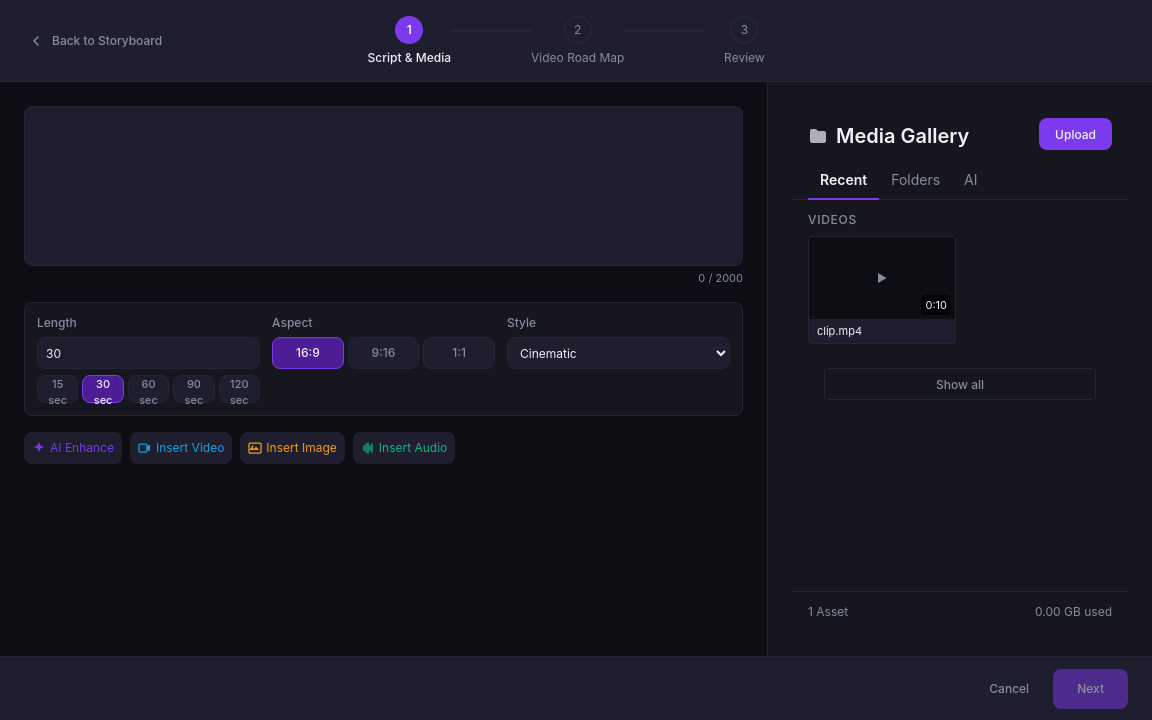
GenerateWizardPage — asset detail panel › close button returns to the gallery
What coordinates should you click on to do the following:
click the button "▶ 0:10 clip.mp4"
I would click on:
 (882, 290)
Its box is top-left (808, 236), bottom-right (956, 344).
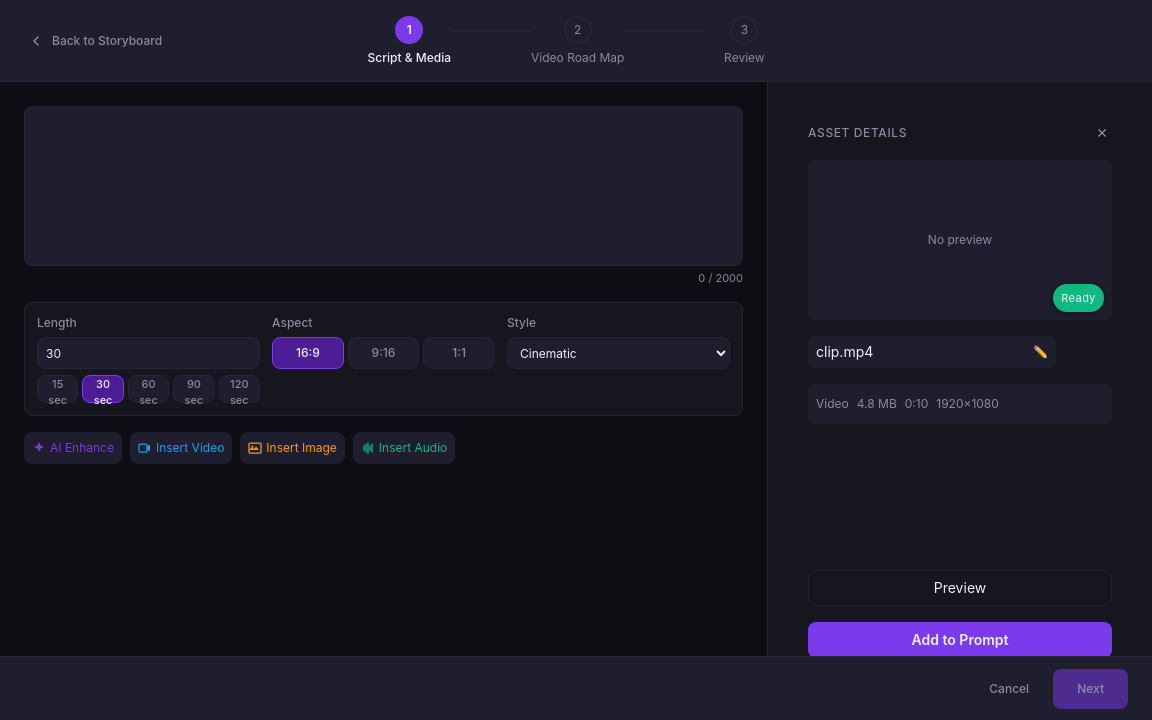
Expected: the button named "close asset details" is shown
What coordinates should you click on to do the following:
click the button named "close asset details"
I would click on:
 (1102, 133)
Its box is top-left (1092, 122), bottom-right (1112, 144).
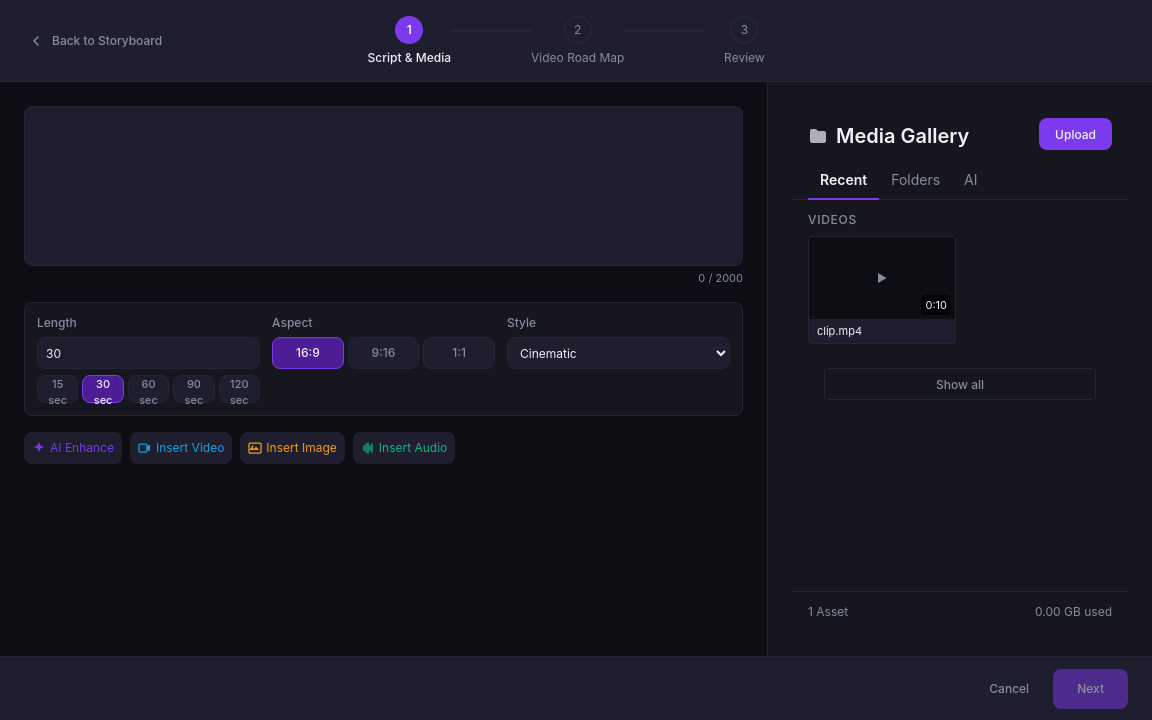
Expected: the heading "Media Gallery" is shown, top-left (836, 122), bottom-right (969, 150)
